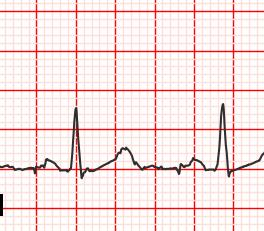LVH: (94, 145, 141, 176)
